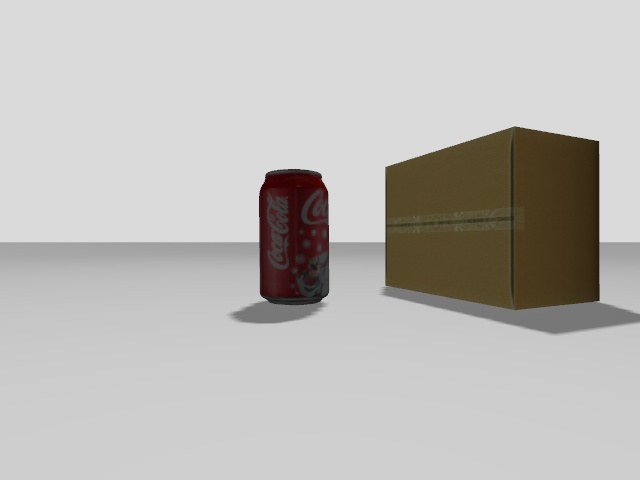carton: (387, 126, 601, 308)
